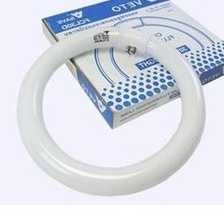book: (37, 0, 223, 133)
light_bulb: (14, 22, 210, 203)
